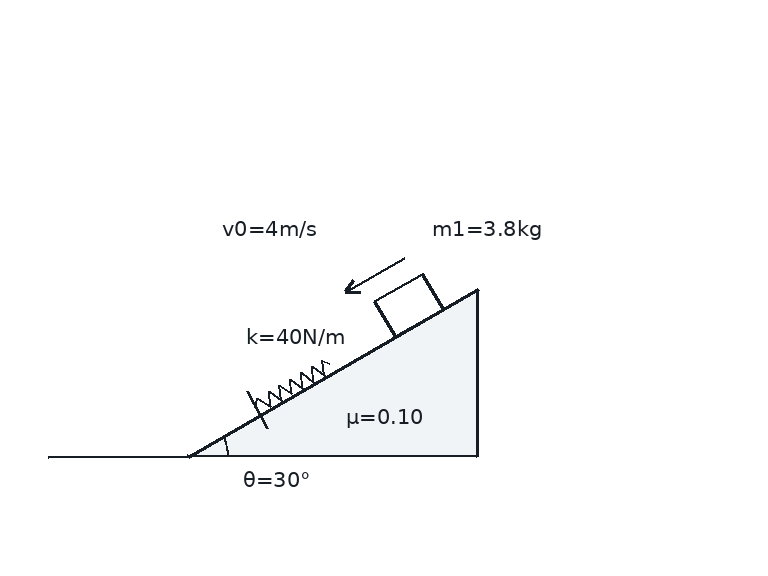block: (372, 271, 445, 339)
ramp: (186, 287, 478, 458)
spring: (254, 358, 333, 409)
